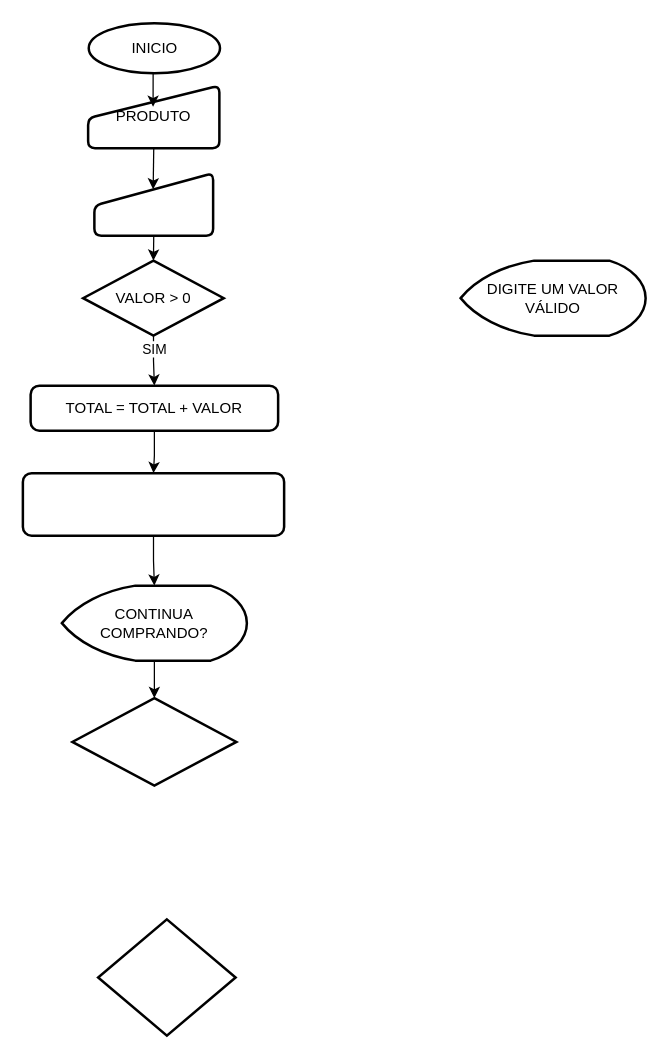
This 669x1058 diagram has some shape labels left out. The shapes that lost their labels are listed below. From the top down, each one's centre as x and y in pixels, then its label:
the point at 153,203: VALOR
the point at 153,503: LISTAPROD = LISTAPROD + PRODUTO + "\N"
the point at 153,741: CONTINUA == 0
